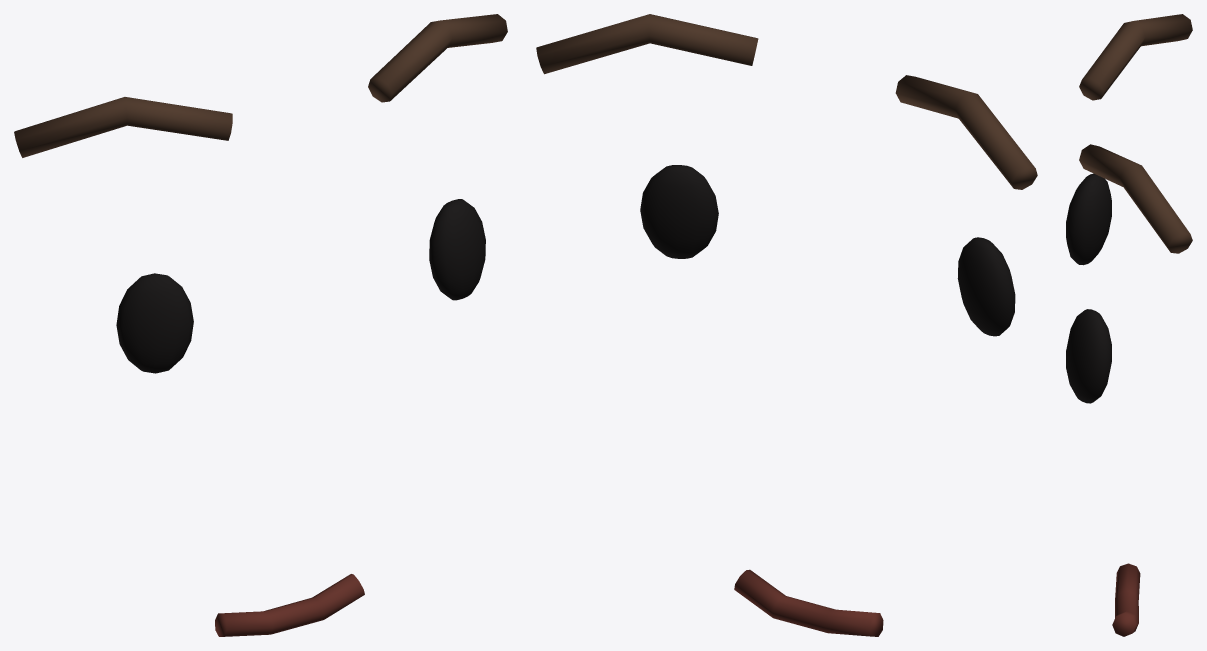
Rendered from face_dot.fbx.
The picture shows the model from 3 angles, left to right: view 1: azimuth 30°, elevation 25°; view 2: azimuth 150°, elevation 25°; view 3: azimuth 270°, elevation 25°; orthographic projection. The views are drawn at different scales.
Visible parts, largest first — view 1: face_dot; view 2: face_dot; view 3: face_dot.
Part boxes in pixels (bbox=[...]): face_dot: bbox=[14, 14, 507, 636]; face_dot: bbox=[536, 14, 1037, 636]; face_dot: bbox=[1066, 14, 1192, 636].
Size of the model in its own units: 0.187 by 0.2072 by 0.0451.
